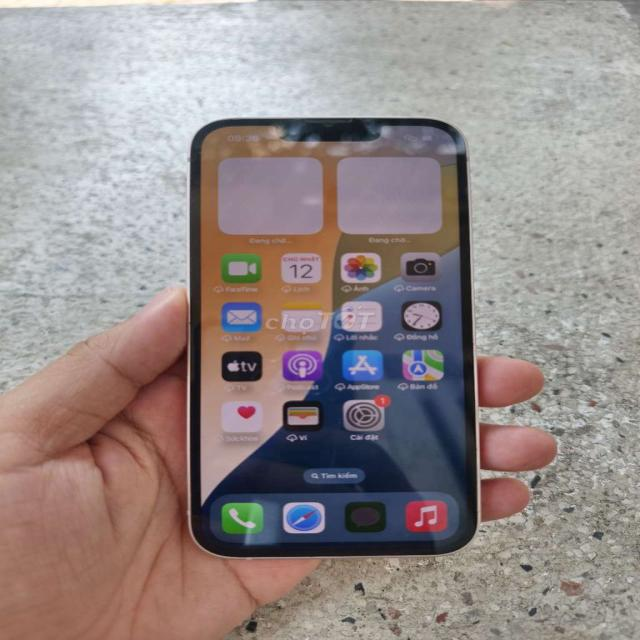gen_12_13: (178, 113, 502, 563)
